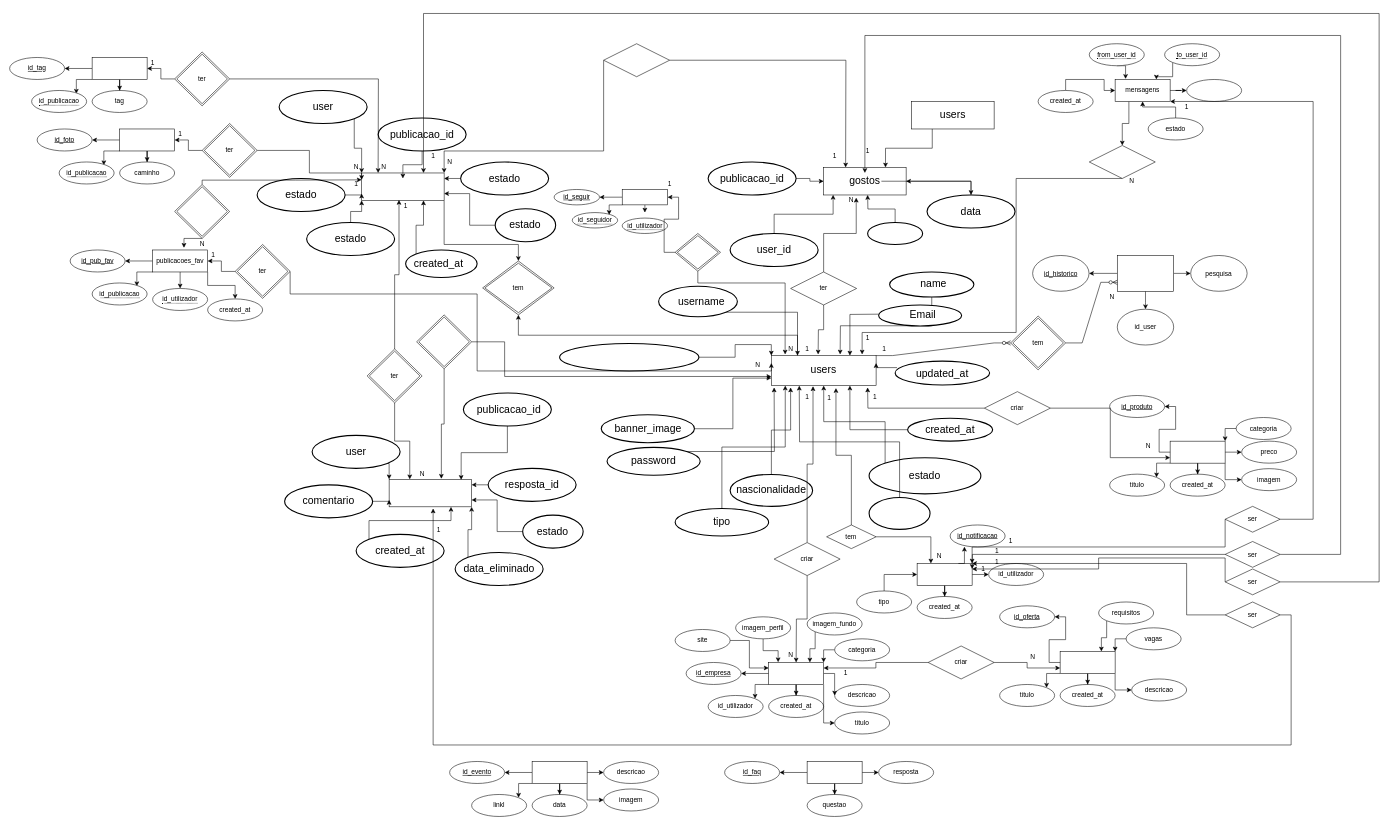
Some shapes in this 1393 by 826 pixel diagram are drawn without their labels. The shapes that lost their labels are listed below. From the top down, each one's box as (x1, y1, x2, y2) in pixels, then its label:
(92, 57, 147, 79): tags
(603, 43, 670, 77): dar
(1186, 79, 1242, 101): mensagem
(119, 128, 175, 151): fotos_publicacoes
(1089, 145, 1155, 178): envia
(361, 172, 444, 200): publicacoes
(622, 189, 668, 205): seguir
(174, 184, 230, 238): estar
(675, 233, 721, 271): pode
(867, 222, 923, 245): gosto
(1117, 255, 1174, 291): historico_pesquisa
(416, 314, 472, 369): fazer
(559, 343, 699, 371): profile-image
(1170, 441, 1225, 463): marketplace
(389, 479, 472, 507): comentarios
(868, 497, 930, 530): genero
(917, 563, 972, 585): notificacoes
(768, 662, 824, 684): empresa
(1060, 651, 1115, 673): oferta_emprego
(532, 761, 587, 783): eventos
(807, 761, 862, 783): faqs
